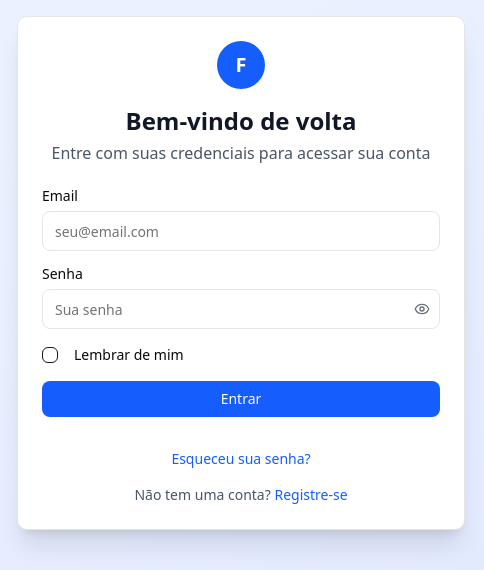
Login › deve mostrar loading durante o login
The width and height of the screenshot is (484, 570).
Type "test@example.com" into the field with placeholder "seu@email.com" at (241, 231), box [42,211,440,251]
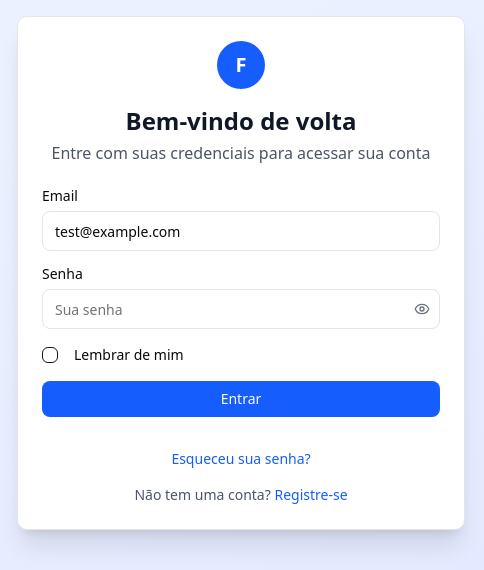
Type "Password123" into the password field with placeholder "Sua senha" at (241, 309), box [42,289,440,329]
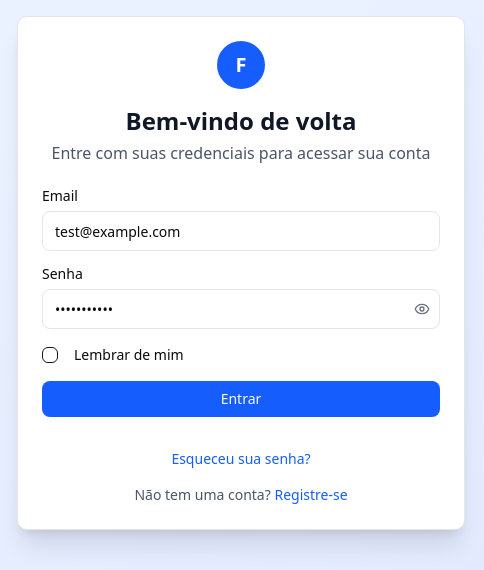
Click the button "Entrar" at (241, 399), box [42,381,440,417]
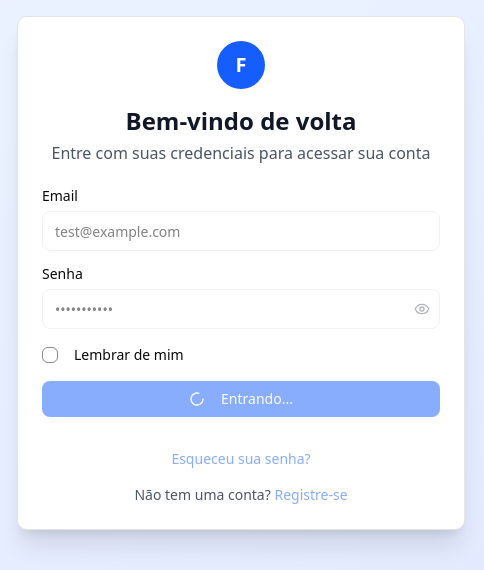
Now the button named "Entrar" is disabled, box [42,381,440,417]
